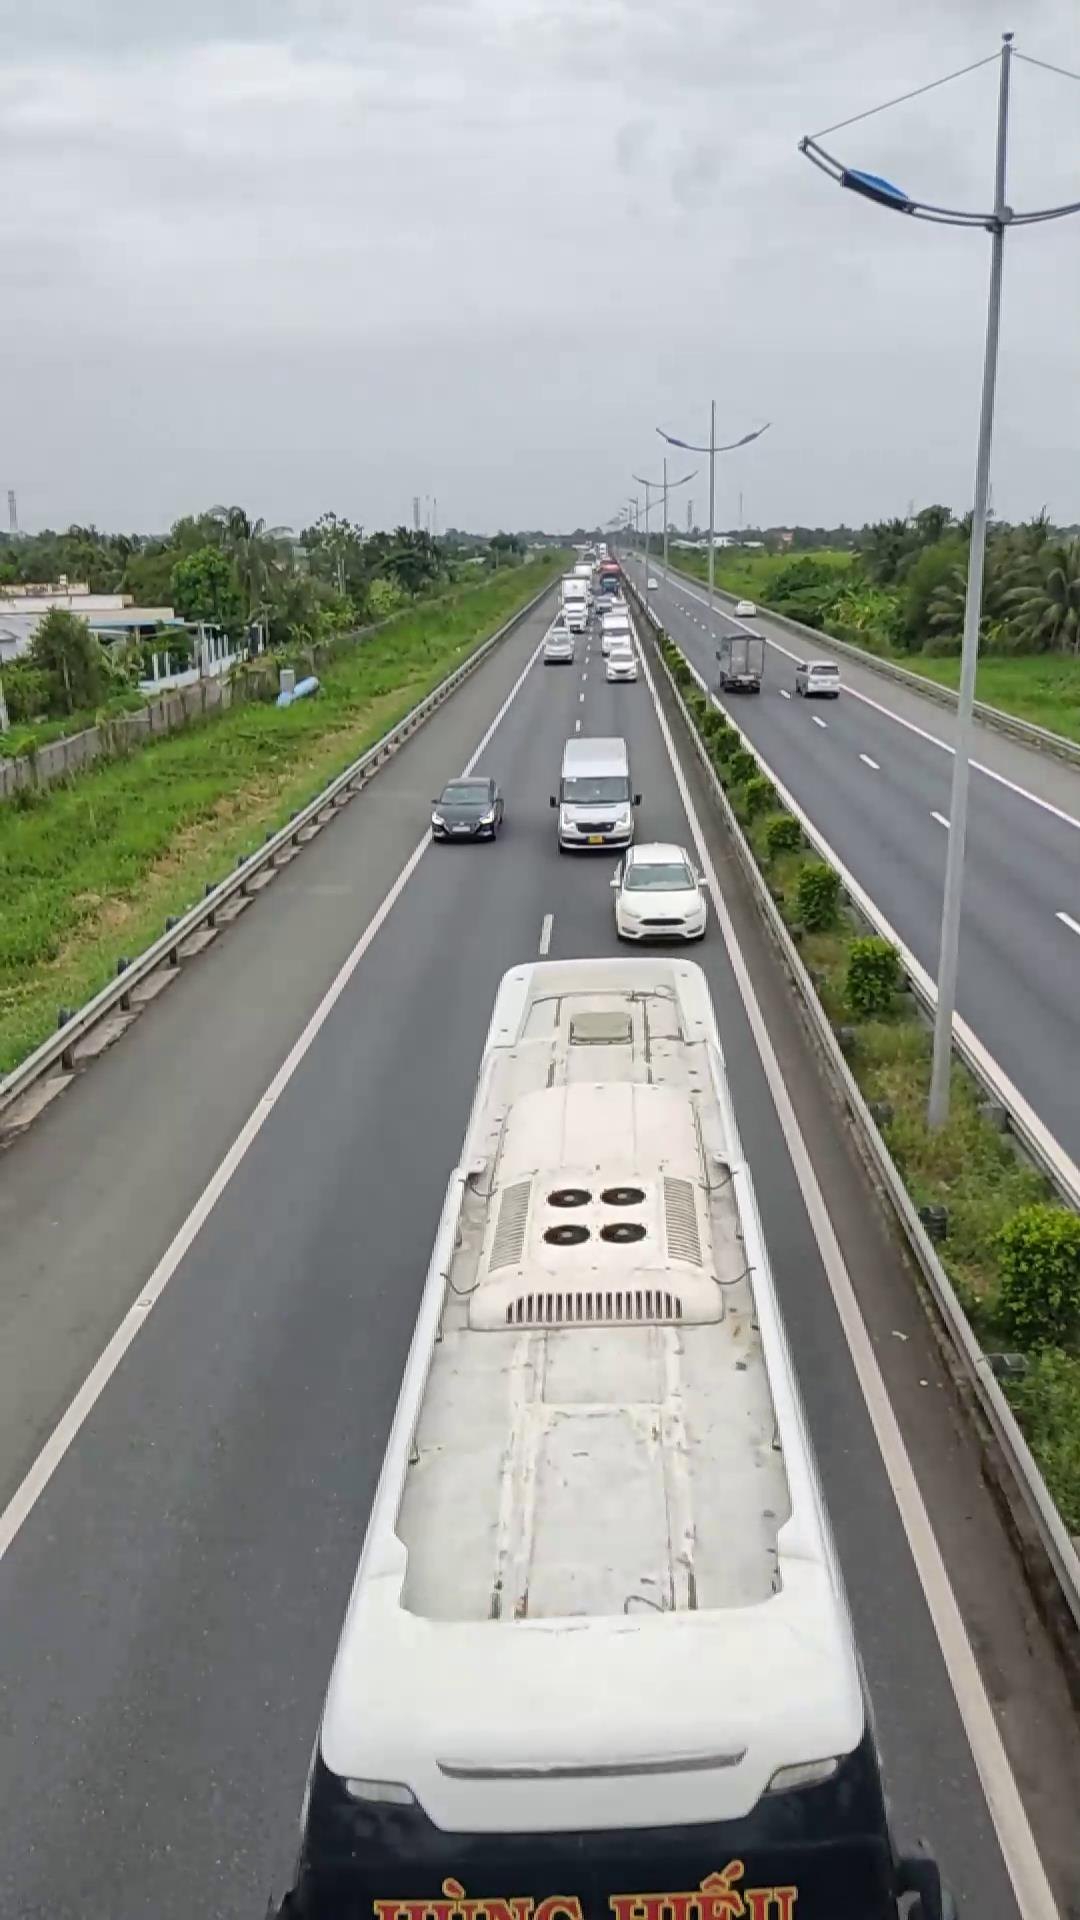bus: (307, 944, 889, 1920)
car: (549, 736, 640, 853), (609, 840, 709, 944), (430, 775, 504, 843)
